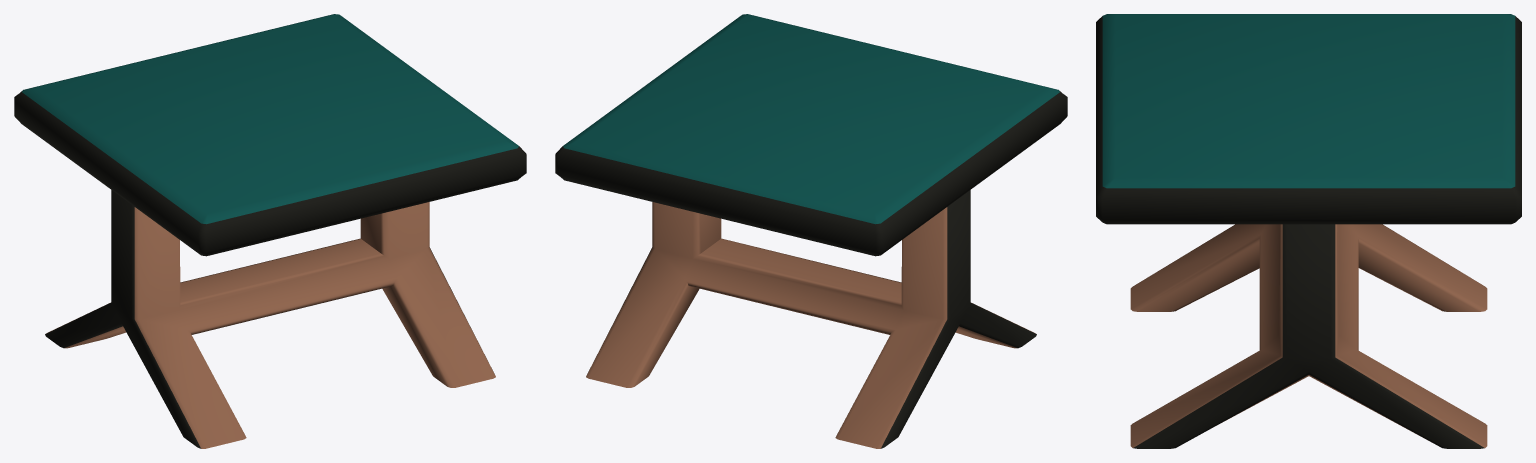
The model's file is OT_037_038_green_square_table.glb.
The picture shows the model from 3 angles, left to right: view 1: azimuth 30°, elevation 25°; view 2: azimuth 150°, elevation 25°; view 3: azimuth 270°, elevation 25°; orthographic projection. The views are drawn at different scales.
Parts seen in each view (by area): view 1: table; view 2: table; view 3: table.
Boxes of the visible parts, x1,y1,x2,y2 form: table: (14,14,526,448); table: (555,14,1067,448); table: (1096,14,1521,448).
Size of the model in its own units: 1.5 by 1.05 by 1.5.
